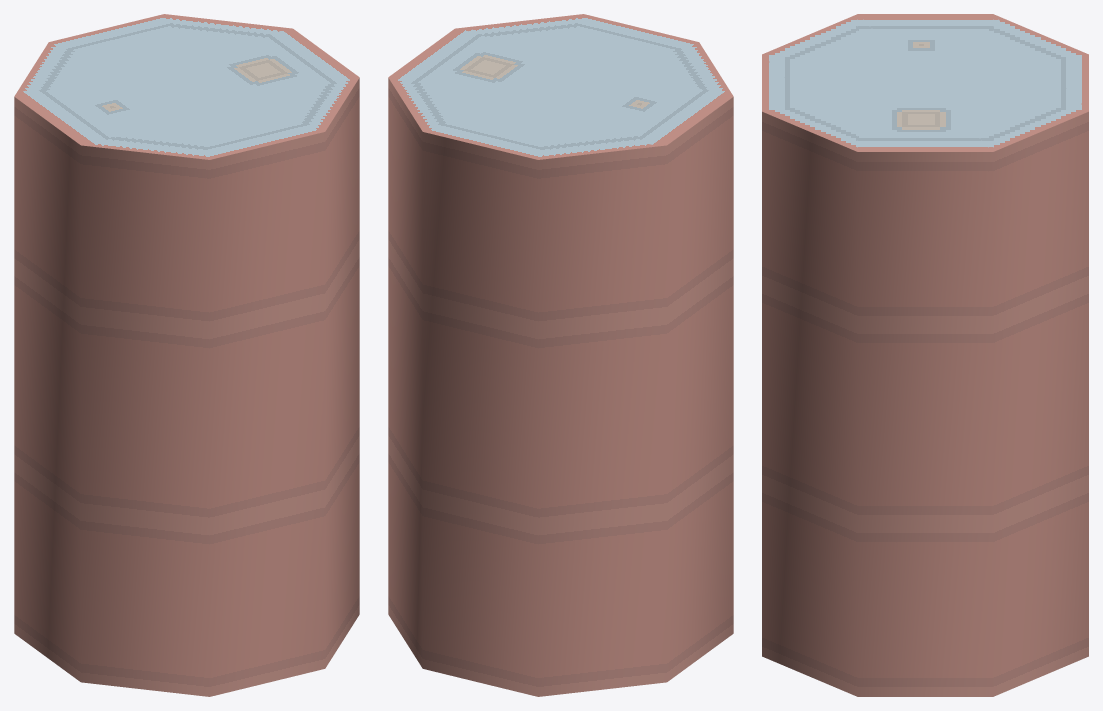
Rendered from 0086_Red_Oil_Drum.glb.
3 renders of one model, left to right at view 1: azimuth 30°, elevation 25°; view 2: azimuth 150°, elevation 25°; view 3: azimuth 270°, elevation 25°, orthographic.
Visible parts, largest first — view 1: part_0; view 2: part_0; view 3: part_0.
Boxes of the visible parts, box(x1,y1,x2,y2) form: part_0: box(14, 14, 359, 696); part_0: box(388, 14, 733, 696); part_0: box(762, 14, 1088, 696).
Size of the model in its own units: 0.4619 by 0.85 by 0.4619.
1 material, 1 textured.
